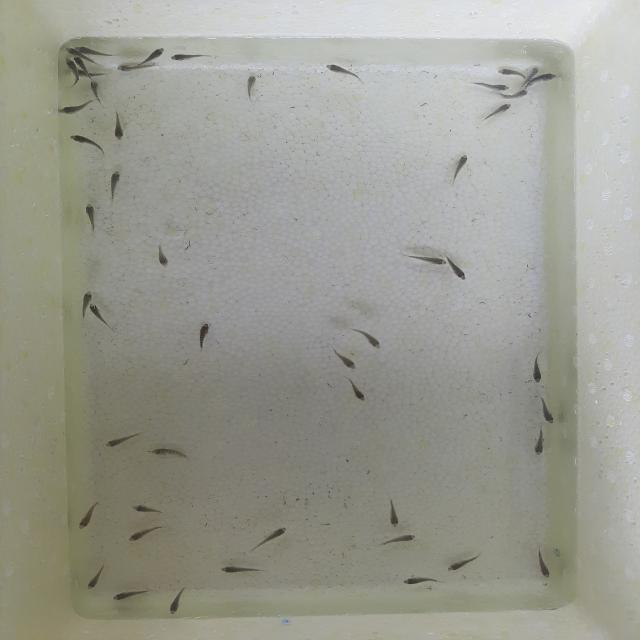fingerling: (247, 524, 291, 554), (102, 424, 152, 450), (322, 62, 370, 86), (530, 546, 560, 583), (375, 528, 421, 552), (143, 444, 196, 464), (444, 151, 472, 188), (472, 102, 515, 124), (398, 248, 447, 267), (122, 523, 168, 543), (165, 583, 192, 617), (76, 498, 102, 533), (145, 241, 175, 270), (66, 132, 102, 156), (84, 559, 110, 592), (214, 562, 273, 576), (106, 110, 130, 144), (112, 586, 151, 606), (532, 394, 556, 426), (382, 495, 403, 530), (86, 303, 115, 328), (132, 44, 170, 62), (241, 73, 263, 104), (525, 350, 545, 384), (105, 168, 122, 207), (126, 502, 169, 517), (194, 320, 213, 352), (330, 348, 357, 370), (83, 202, 100, 236), (464, 81, 512, 93), (450, 257, 471, 284), (359, 330, 384, 352), (532, 428, 550, 458), (347, 378, 368, 402), (74, 45, 119, 56), (450, 556, 480, 572), (85, 77, 104, 101), (116, 62, 148, 76), (76, 284, 98, 304), (60, 104, 98, 115), (64, 60, 84, 80), (401, 576, 439, 586), (172, 53, 203, 63), (511, 88, 534, 100), (539, 71, 559, 84), (498, 68, 529, 76), (528, 65, 541, 76)
